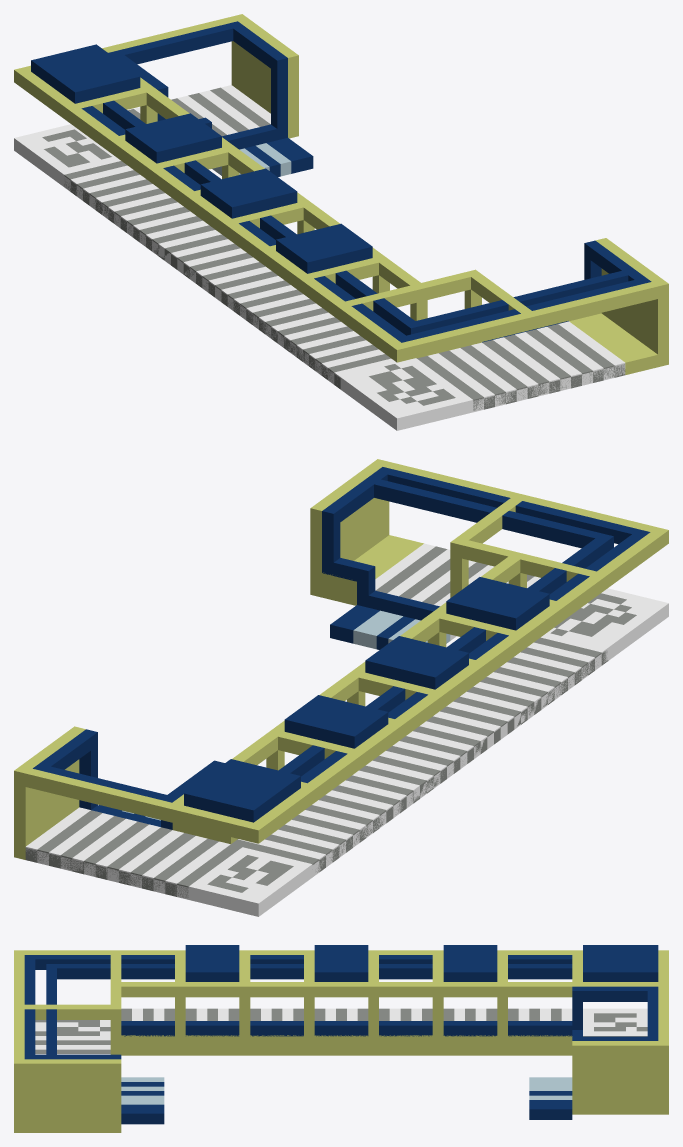
Rendered from segregate.dae.
The picture shows the model from 3 angles, top to bottom: view 1: azimuth 30°, elevation 25°; view 2: azimuth 150°, elevation 25°; view 3: azimuth 270°, elevation 25°; orthographic projection. The views are drawn at different scales.
Parts seen in each view (by area): view 1: Object_0.001, Object_0; view 2: Object_0.001, Object_0; view 3: Object_0.001, Object_0.
Part boxes in pixels (left/top/right/bottom): Object_0.001: left=14, top=14, right=668, bottom=428; Object_0: left=14, top=30, right=668, bottom=430; Object_0.001: left=14, top=459, right=668, bottom=913; Object_0: left=14, top=475, right=668, bottom=916; Object_0.001: left=14, top=945, right=668, bottom=1131; Object_0: left=14, top=960, right=668, bottom=1132.
Bounding box in the file's own units: 2.5 × 6.1 × 0.91.
